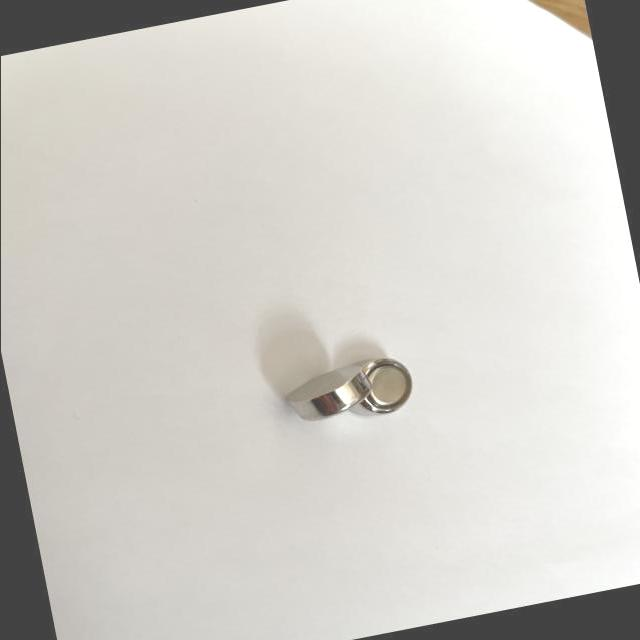COIN: (282, 364, 373, 428), (340, 353, 416, 421)
